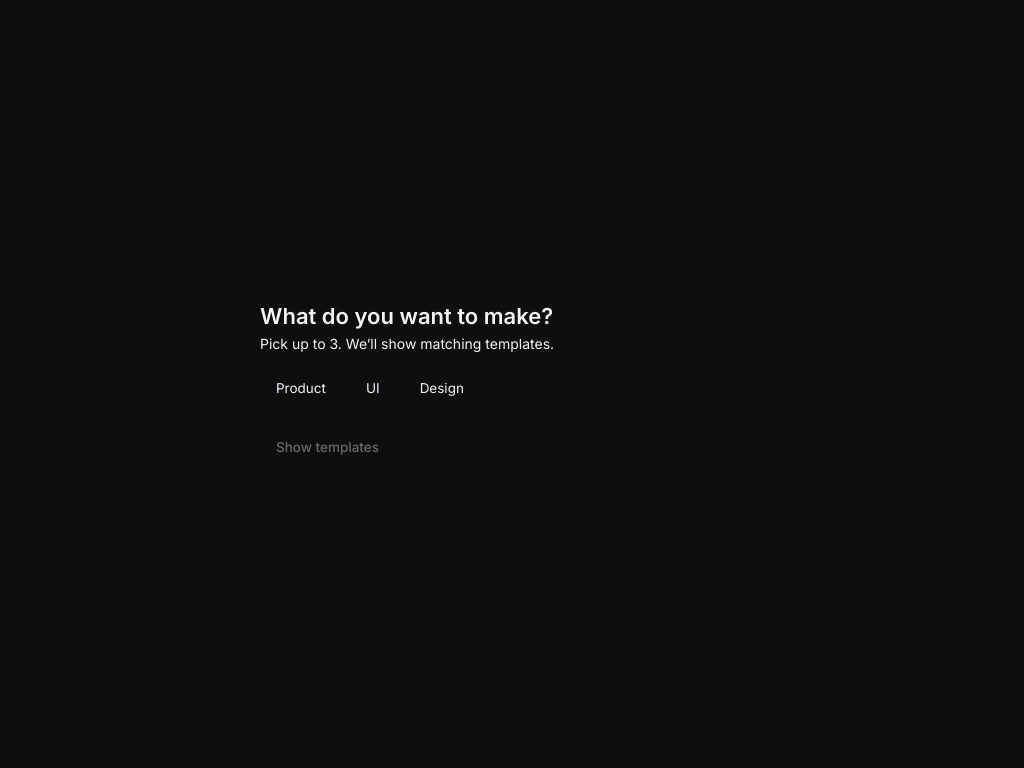
Scenario: InterestPicker › has no way to skip the choice, and needs a pick to continue
expect the button with class "bd-btn--primary" is disabled: met, box [260, 428, 395, 466]
What coordinates should you click on to do the following:
click the button with class "bd-chip" showing "Product"
I would click on:
 (301, 388)
Its box is [260, 370, 342, 406].
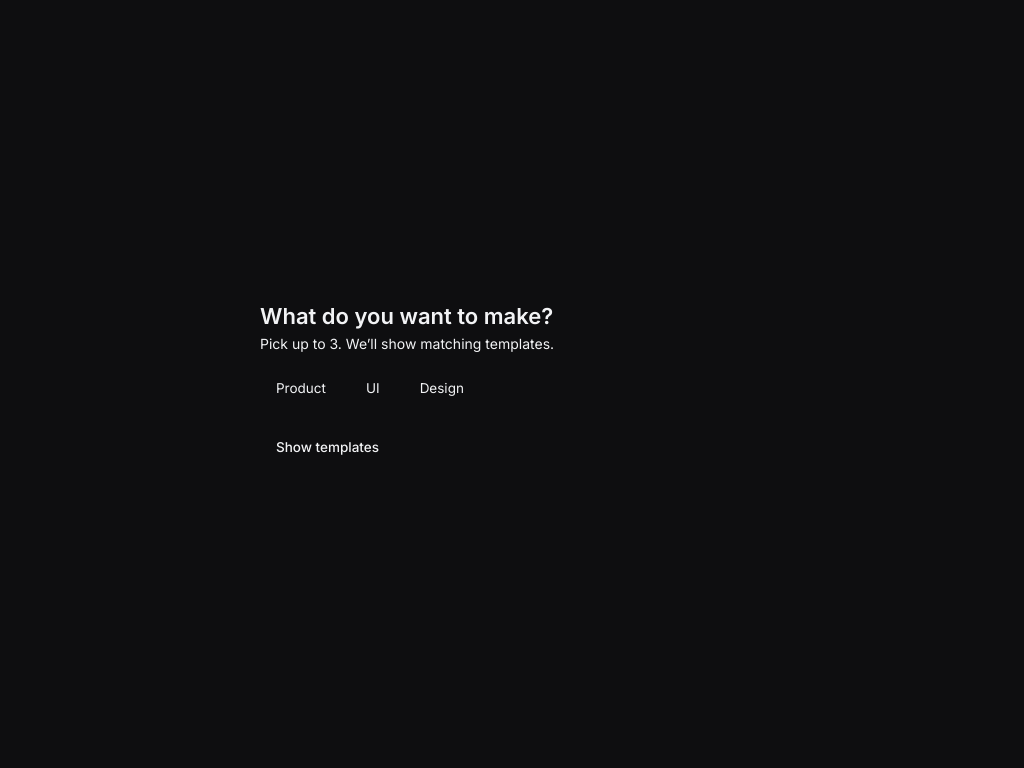
What coordinates should you click on to do the following:
click the button with class "bd-chip" showing "Product"
I would click on:
 (301, 388)
Its box is [260, 370, 342, 406].
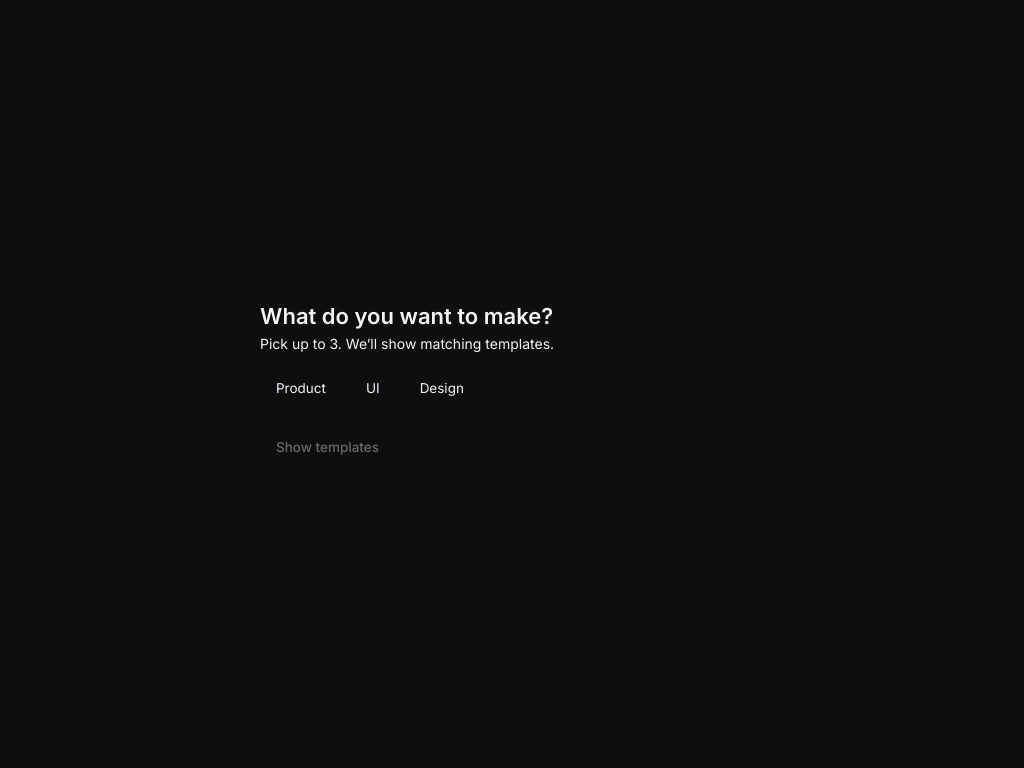
expect the button "Show templates" is disabled: met, box [260, 428, 395, 466]
